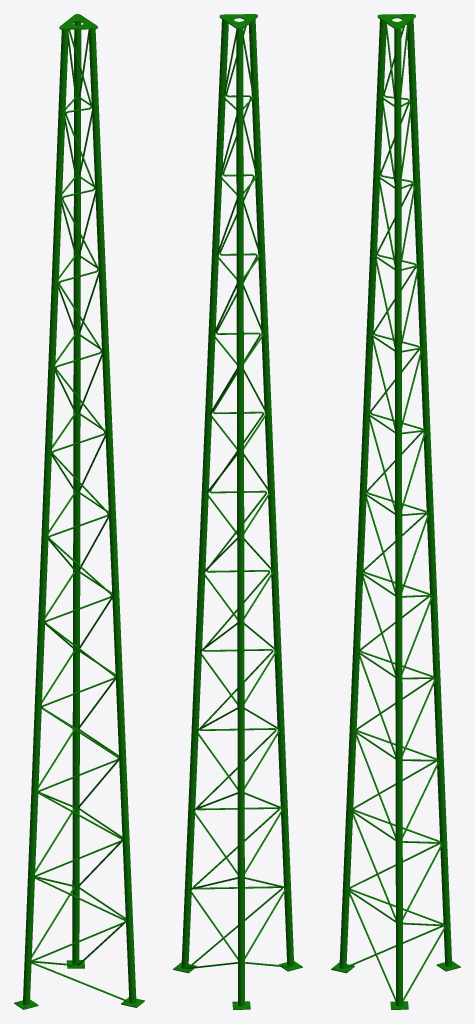
The model's file is simple_antenna_tower.glb.
The picture shows the model from 3 angles, left to right: view 1: azimuth 90°, elevation 25°; view 2: azimuth 150°, elevation 25°; view 3: azimuth 270°, elevation 25°; orthographic projection.
Visible parts, largest first — view 1: Object_2; view 2: Object_2; view 3: Object_2.
Part boxes in pixels (x1,y1,x2,y2): Object_2: [14, 14, 144, 1009]; Object_2: [173, 14, 302, 1009]; Object_2: [331, 14, 460, 1009].
Size of the model in its own units: 0.6521 by 6.01 by 0.7357.
